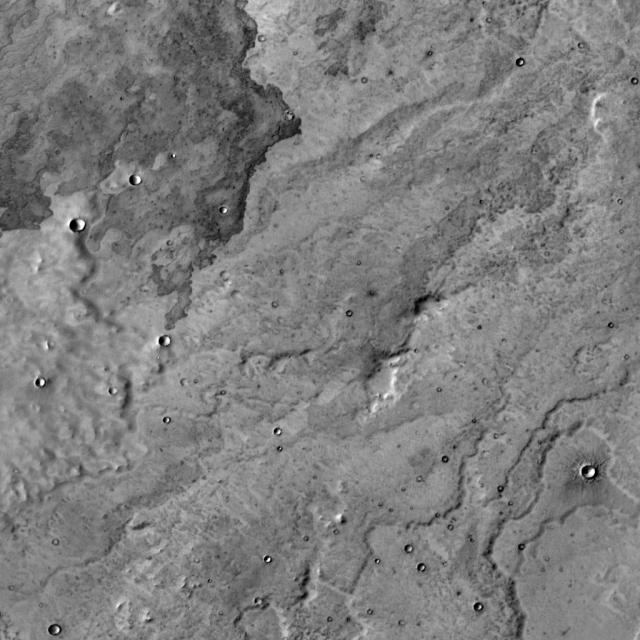crater: (585, 469, 599, 482), (72, 220, 87, 232), (46, 625, 60, 637), (132, 176, 143, 186), (162, 338, 173, 348), (37, 381, 47, 390), (182, 379, 191, 387), (519, 60, 527, 68), (477, 606, 485, 613), (287, 115, 294, 122), (158, 412, 166, 418), (104, 383, 112, 389), (216, 202, 223, 208), (260, 552, 267, 558), (270, 423, 277, 429)
